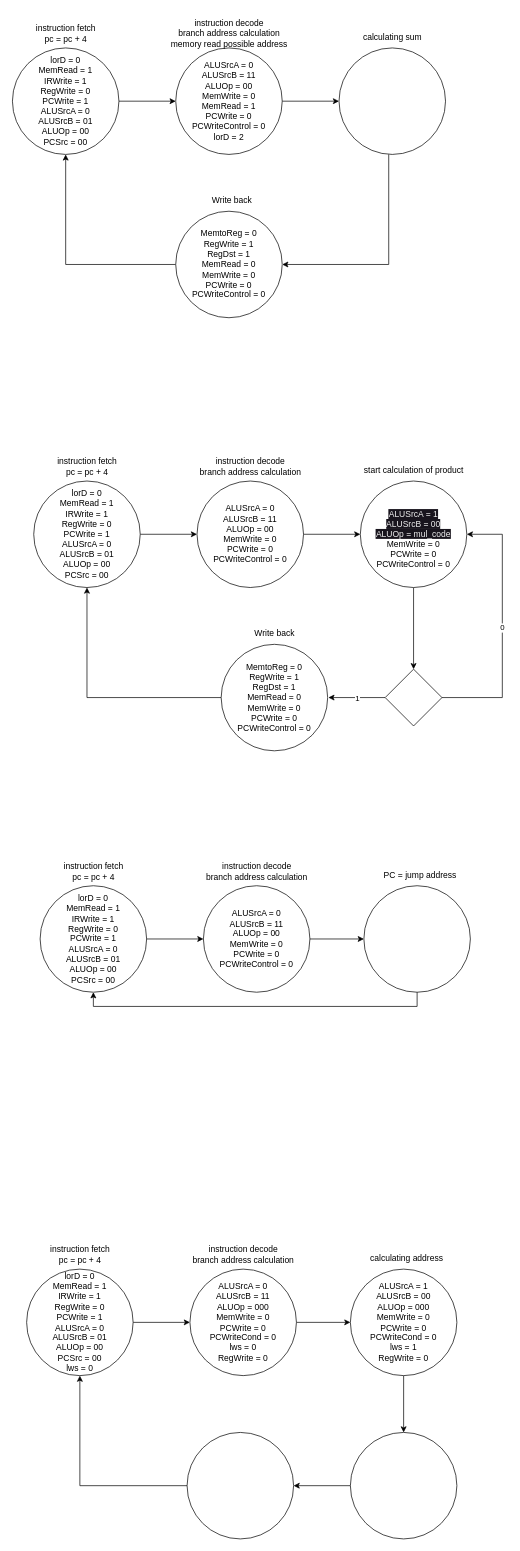
This 520x1551 diagram has some shape labels left out. The shapes that lost their labels are listed below. From the top down, each one's centre as x and y in pixels, then its label:
(392,100): ALUSrcA = 1 ALUSrcB = 4 ALUOp = 00 MemWrite = 0 PCWrite = 0 PCWriteControl = 0
(413,697): ready
(416,938): PCWrite = 1 PCSrc = 10 MemWrite = 0
(240,1485): MemWrite = 0 RegWrite = 1 RegDst = 1 PCWrite = 0 PCWriteCond = 0 MemToReg = 1
(403,1485): IorD = 1 MemRead = 1 MemWrite = 0 RegWrite = 0 PCWrite = 0 PCWriteCond = 0
